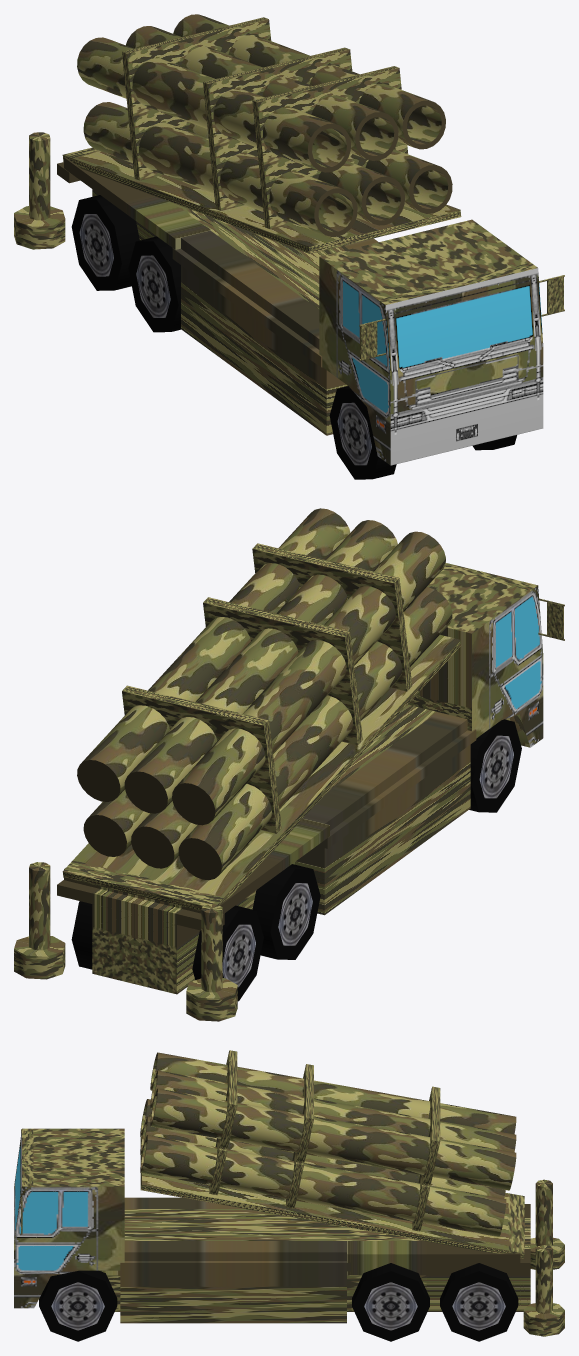
The model's file is type88.fbx.
3 views of the same model, one above another, from view 1: azimuth 30°, elevation 25°; view 2: azimuth 150°, elevation 25°; view 3: azimuth 270°, elevation 25° (orthographic). The views are drawn at different scales.
Parts seen in each view (by area): view 1: sdef:pedestal, cockpit, cab, tire_rr2, tire_rr, Outrigger, tire_fr, mirror; view 2: sdef:pedestal, cab, cockpit, Outrigger, tire_rr, tire_fr, tire_rr2, tire_rl1, mirror; view 3: sdef:pedestal, cab, cockpit, tire_rl1, tire_rl, tire_fl, Outrigger.
Boxes of the visible parts, left/top/right/bottom form: sdef:pedestal: left=62, top=14, right=461, bottom=253; cockpit: left=319, top=219, right=543, bottom=465; cab: left=57, top=157, right=378, bottom=435; tire_rr2: left=71, top=195, right=139, bottom=290; tire_rr: left=128, top=236, right=180, bottom=332; Outrigger: left=14, top=132, right=65, bottom=249; tire_fr: left=329, top=386, right=396, bottom=479; mirror: left=359, top=275, right=564, bottom=360; sdef:pedestal: left=62, top=508, right=461, bottom=910; cab: left=57, top=704, right=476, bottom=994; cockpit: left=408, top=563, right=543, bottom=747; Outrigger: left=14, top=862, right=237, bottom=1021; tire_rr: left=252, top=864, right=320, bottom=959; tire_fr: left=469, top=719, right=521, bottom=812; tire_rr2: left=192, top=905, right=263, bottom=1001; tire_rl1: left=71, top=901, right=92, bottom=969; mirror: left=538, top=598, right=564, bottom=640; sdef:pedestal: left=140, top=1050, right=524, bottom=1258; cab: left=99, top=1197, right=530, bottom=1323; cockpit: left=14, top=1128, right=124, bottom=1308; tire_rl1: left=440, top=1263, right=518, bottom=1341; tire_rl: left=352, top=1263, right=429, bottom=1341; tire_fl: left=39, top=1270, right=117, bottom=1341; Outrigger: left=523, top=1179, right=564, bottom=1336.
Bounding box in the file's own units: 288 × 394 × 810.
6 materials, 6 textured.
